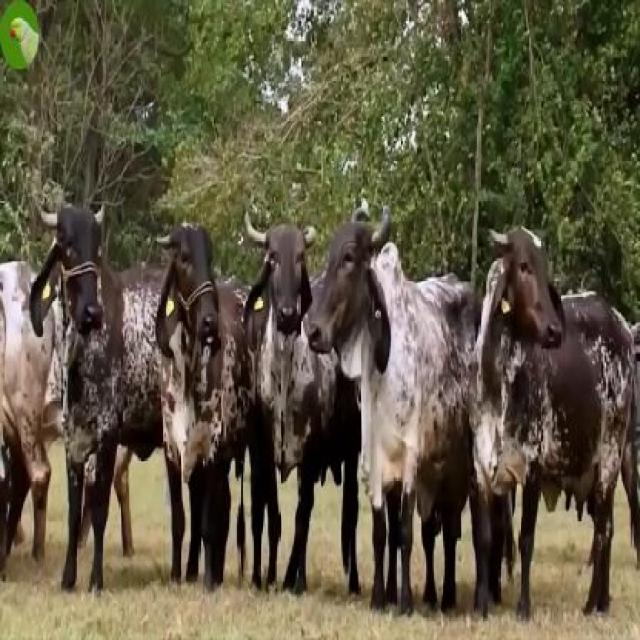Cow: (311, 203, 475, 622), (466, 224, 639, 616), (37, 203, 161, 594), (157, 225, 241, 589), (241, 214, 317, 615)
